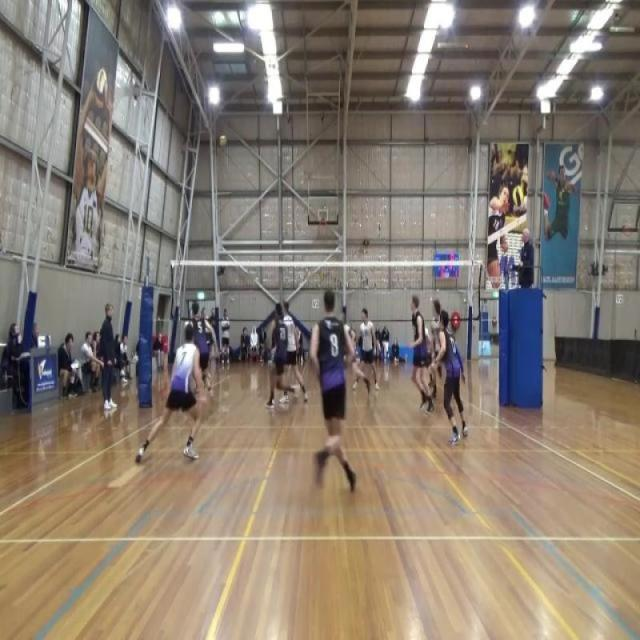volleyball: (94, 66, 109, 112), (512, 184, 524, 207), (217, 134, 228, 150)
